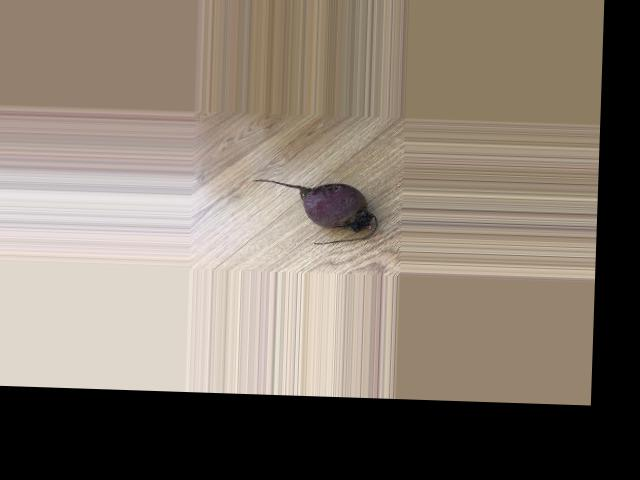beet: (250, 178, 378, 246)
